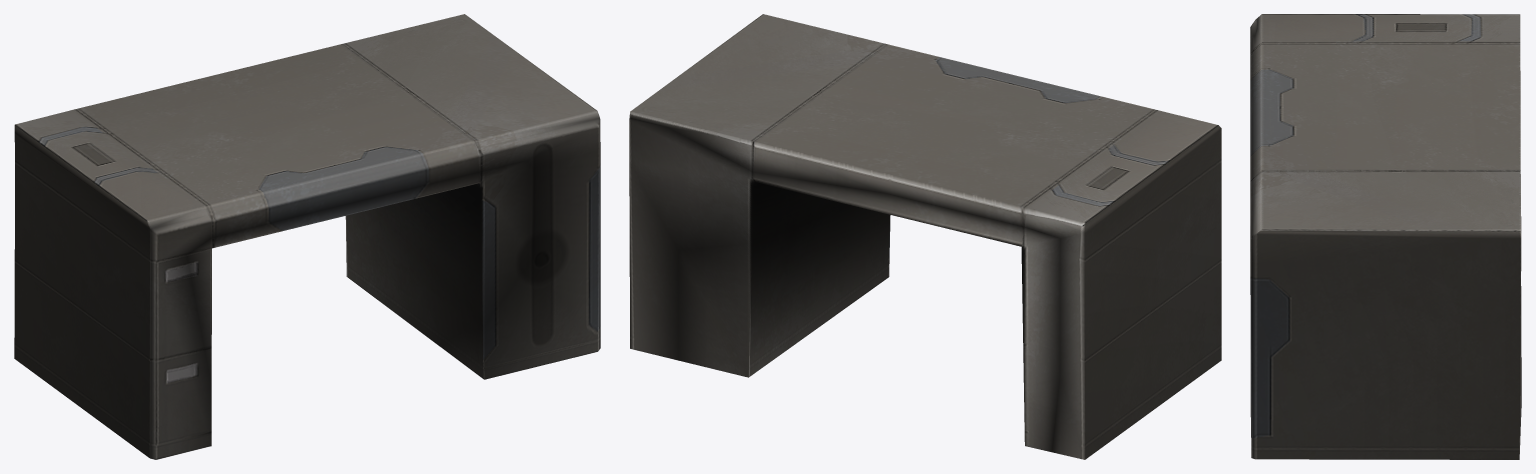
File: Desktop.fbx
The picture shows the model from 3 angles, left to right: view 1: azimuth 30°, elevation 25°; view 2: azimuth 150°, elevation 25°; view 3: azimuth 270°, elevation 25°; orthographic projection. The views are drawn at different scales.
Visible parts, largest first — view 1: lowbureau:RetopoGroup1; view 2: lowbureau:RetopoGroup1; view 3: lowbureau:RetopoGroup1.
Boxes of the visible parts, box(x1,y1,x2,y2) form: lowbureau:RetopoGroup1: box(14, 14, 600, 459); lowbureau:RetopoGroup1: box(629, 14, 1221, 459); lowbureau:RetopoGroup1: box(1250, 14, 1521, 459).
Bounding box in the file's own units: 202 × 101 × 108.
